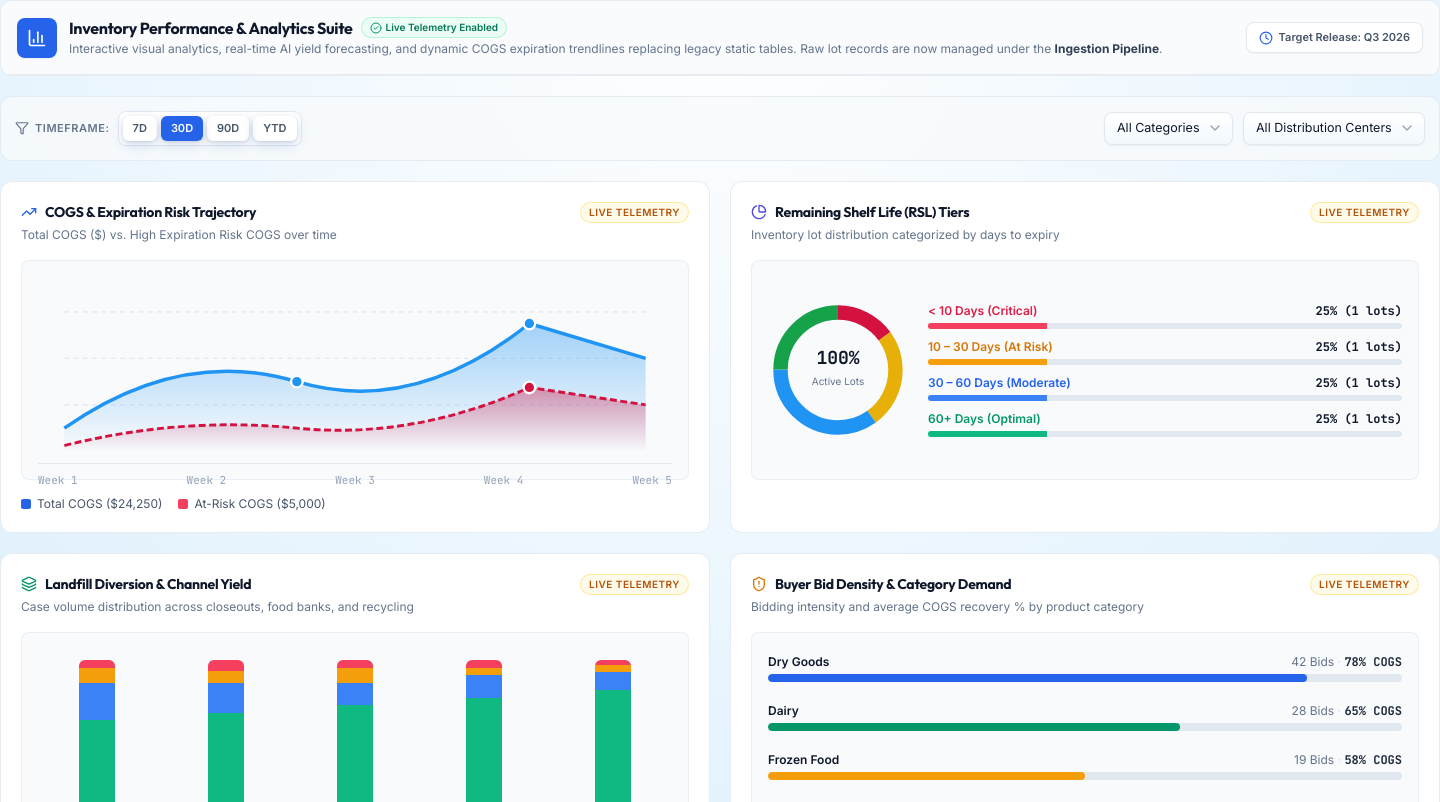
Test: Inventory Analytics Live Data Telemetry & Feature Flag (Issue #05) › Component Seam: InventoryChartsDashboard Live Data & Feature Flag Gating › filters live telemetry when user selects a category filter
Select "Dairy" in the 1st dropdown showing "All Categories" at (1168, 128), box [1104,112,1233,145]
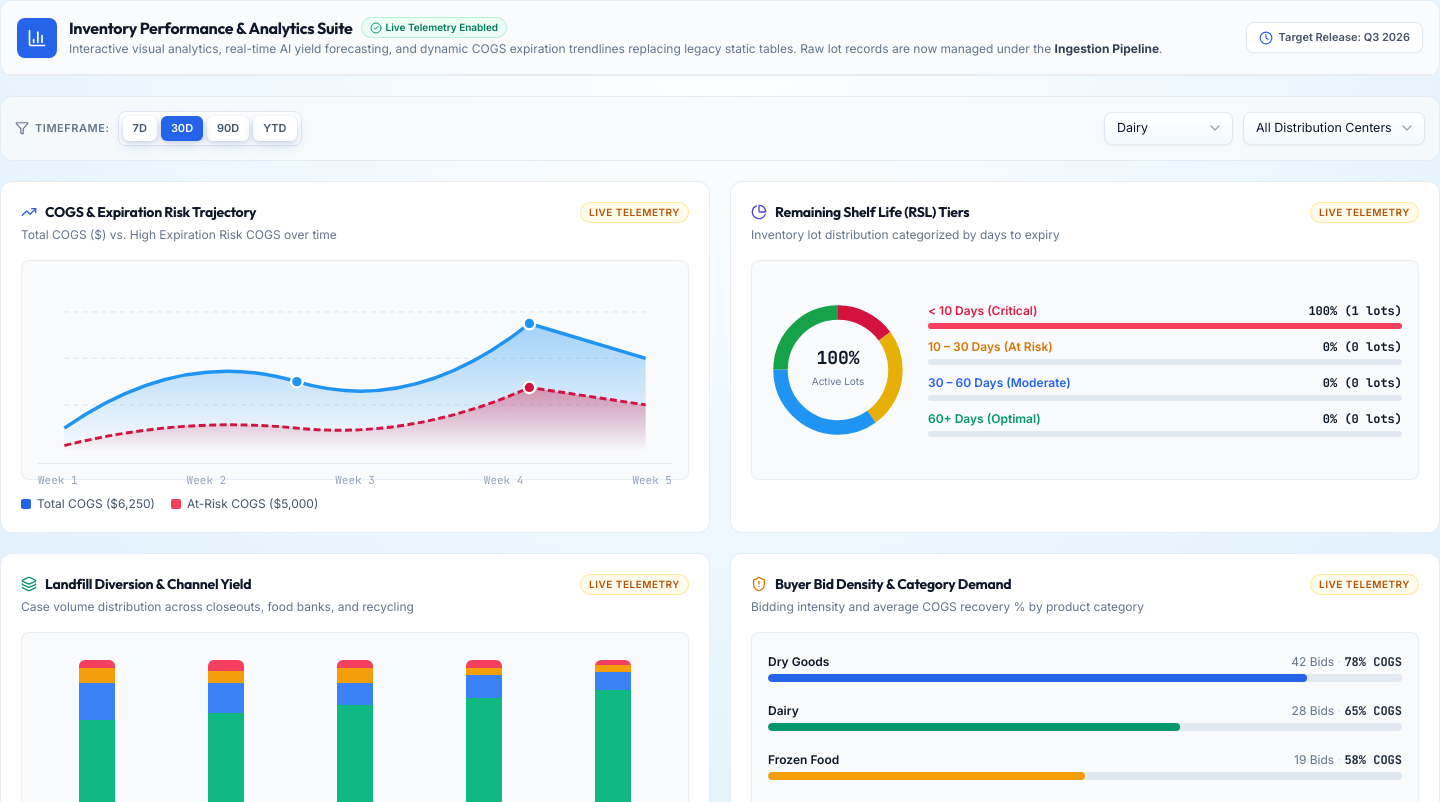
Result: the text "Total COGS ($6,250)" is shown at [21,496,155,512]
